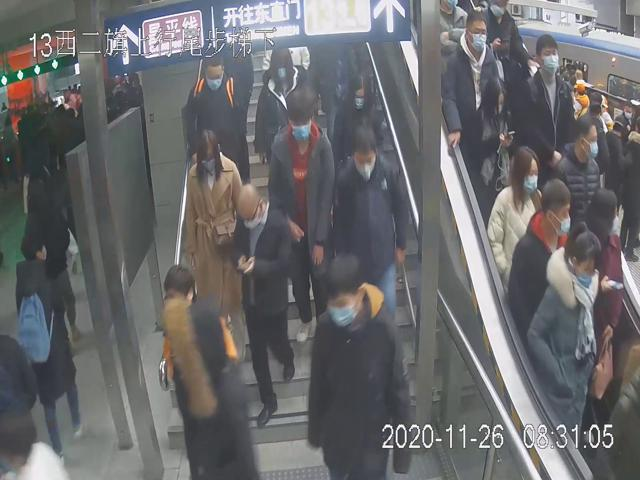person: (304, 253, 416, 480), (266, 88, 335, 345), (229, 182, 300, 428), (333, 124, 408, 337), (182, 129, 244, 356), (182, 50, 249, 191), (441, 9, 501, 157), (484, 143, 547, 279), (463, 72, 519, 216), (253, 47, 310, 164), (333, 68, 385, 175)
